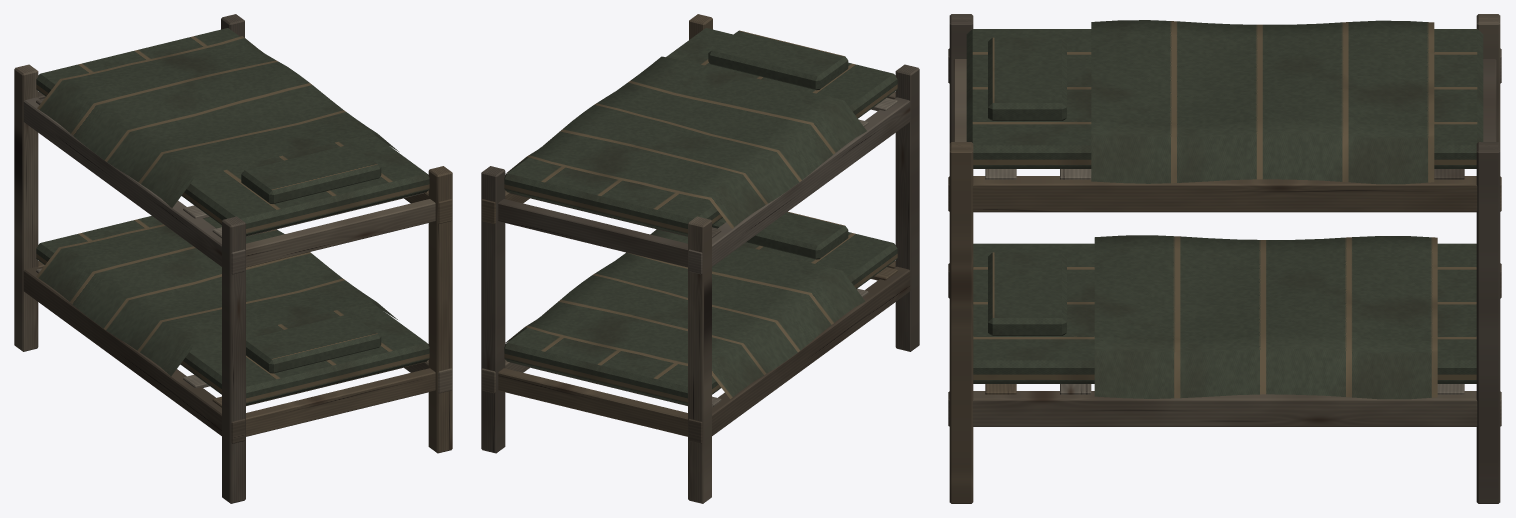
The model's file is S7U_Bunk.fbx.
The picture shows the model from 3 angles, left to right: view 1: azimuth 30°, elevation 25°; view 2: azimuth 150°, elevation 25°; view 3: azimuth 270°, elevation 25°; orthographic projection. The views are drawn at different scales.
Parts seen in each view (by area): view 1: S7U_Bunk; view 2: S7U_Bunk; view 3: S7U_Bunk.
Part boxes in pixels (box(x1,y1,x2,y2)): S7U_Bunk: box(14, 14, 452, 503); S7U_Bunk: box(481, 14, 919, 503); S7U_Bunk: box(948, 14, 1501, 503).
Bounding box in the file's own units: 1.27 × 1.53 × 2.1.
